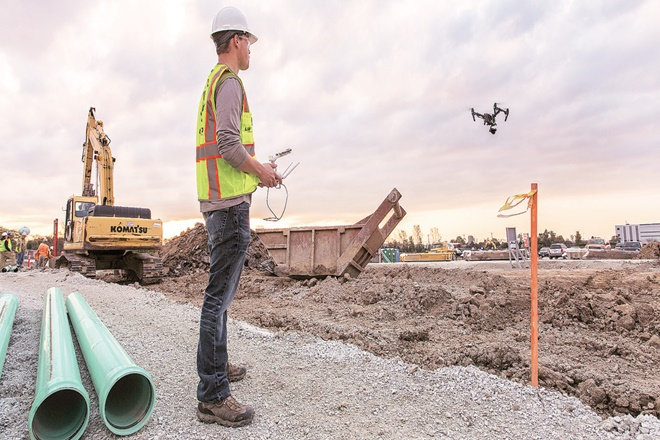SAFE: (194, 3, 263, 211)
